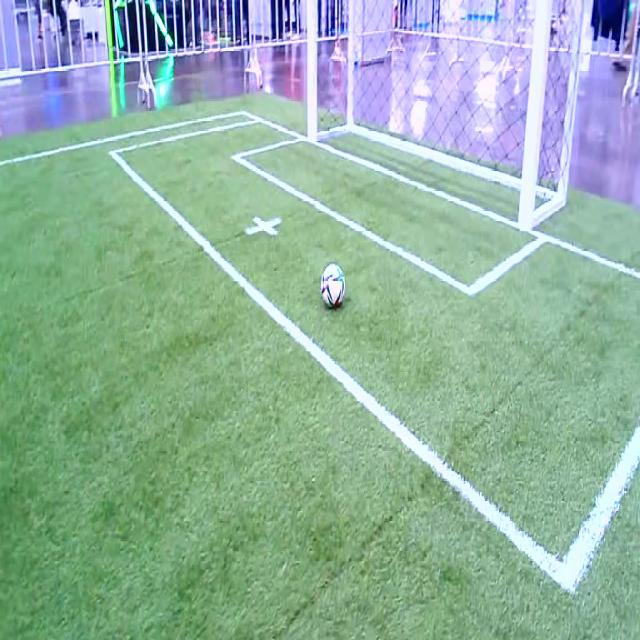ball: (321, 264, 345, 308)
